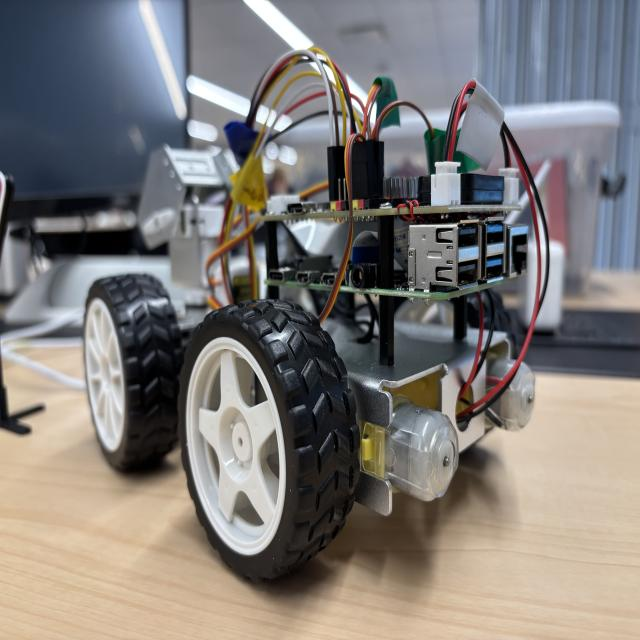vehicle: (85, 48, 551, 587)
